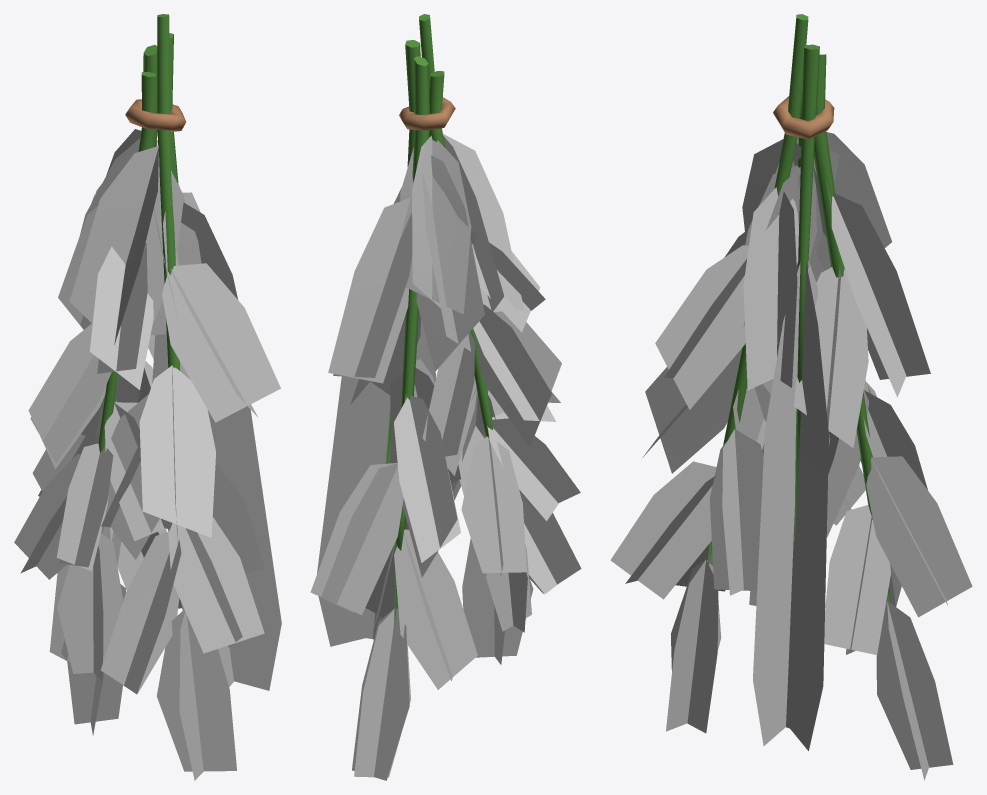
The model's file is HangingHerbBundle6.fbx.
3 renders of one model, left to right at view 1: azimuth 30°, elevation 25°; view 2: azimuth 150°, elevation 25°; view 3: azimuth 270°, elevation 25°, orthographic. The views are drawn at different scales.
Parts seen in each view (by area): view 1: HangingHerbBundle6; view 2: HangingHerbBundle6; view 3: HangingHerbBundle6.
Part boxes in pixels (left/top/right/bottom): HangingHerbBundle6: left=14, top=14, right=281, bottom=780; HangingHerbBundle6: left=310, top=14, right=581, bottom=780; HangingHerbBundle6: left=610, top=14, right=972, bottom=780.
Bounding box in the file's own units: 11.58 × 34.95 × 15.06.
